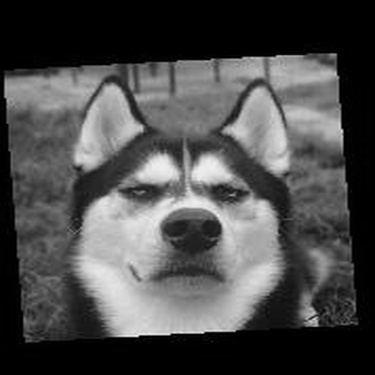dog: (40, 67, 335, 347)
